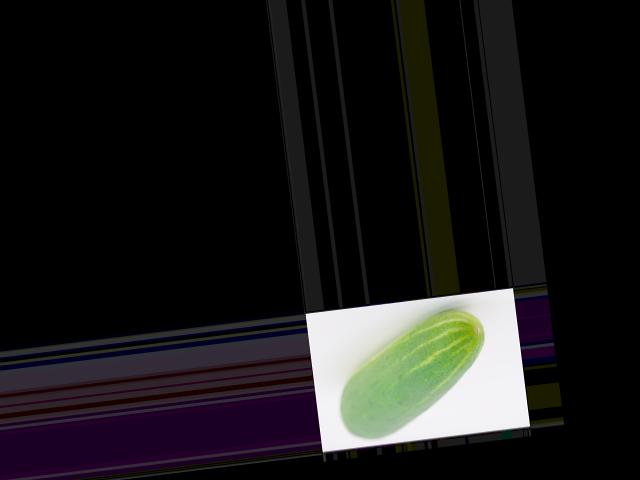cucumber: (329, 306, 495, 442)
